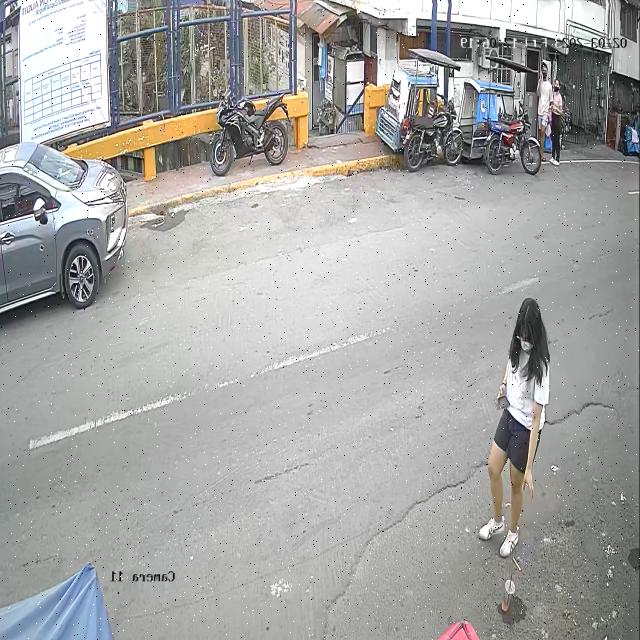human: (479, 298, 549, 611)
trash: (498, 569, 518, 612)
